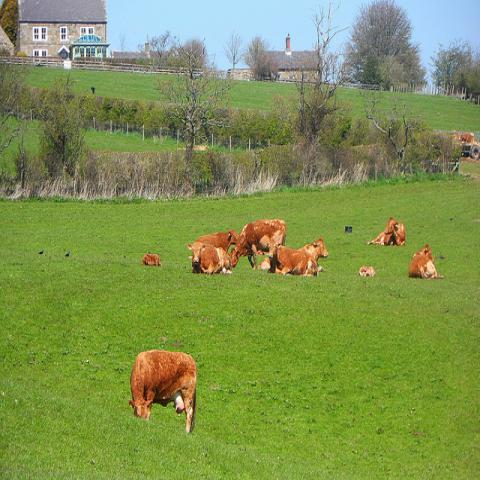truck: (436, 129, 479, 161)
